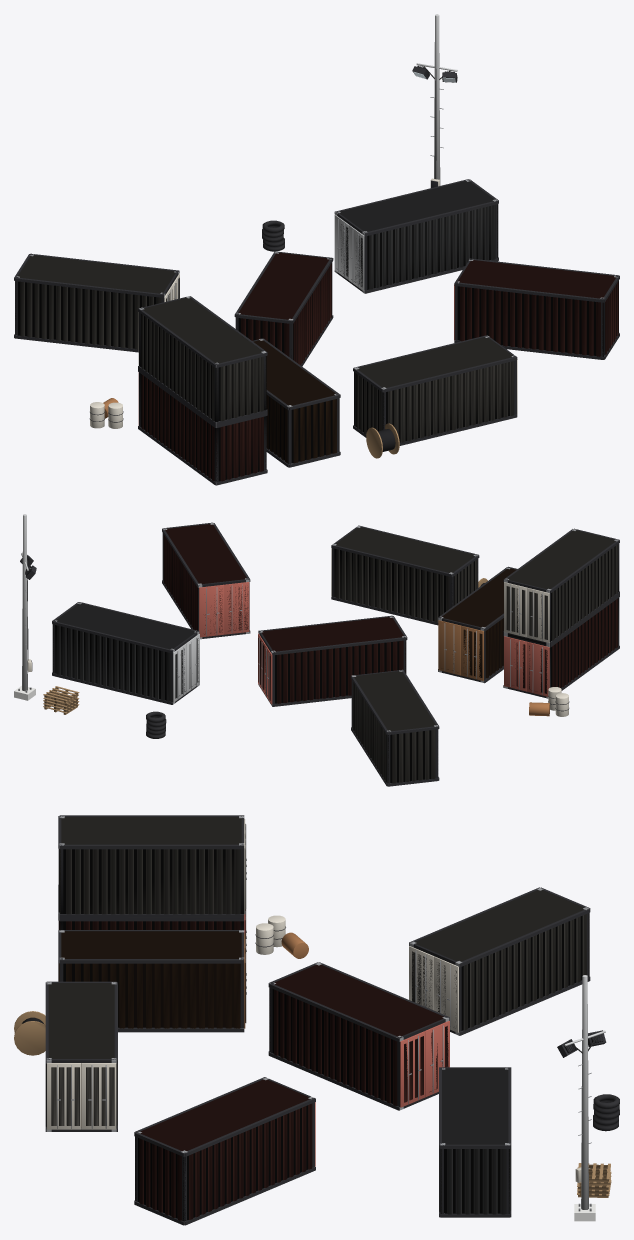
Rendered from containeryard.glb.
3 renders of one model, top to bottom at view 1: azimuth 30°, elevation 25°; view 2: azimuth 150°, elevation 25°; view 3: azimuth 270°, elevation 25°, orthographic. The views are drawn at different scales.
Visible parts, largest first — view 1: PART, DOOR_c6l, DOOR_c6r; view 2: PART, DOOR_c5l, DOOR_c5r, DOOR_c2l, DOOR_c1l, DOOR_c1r, DOOR_c2r, DOOR_c3r, DOOR_c3l, DOOR_c6r, DOOR_c6l, DOOR_c8l; view 3: PART, DOOR_c4l, DOOR_c4r, DOOR_c8r, DOOR_c7l, DOOR_c8l, DOOR_c7r.
Boxes of the visible parts, x1,y1,x2,y2 form: PART: (14, 14, 619, 485); DOOR_c6l: (349, 225, 364, 290); DOOR_c6r: (334, 214, 349, 280); PART: (14, 514, 619, 786); DOOR_c5l: (224, 582, 249, 634); DOOR_c5r: (199, 584, 224, 637); DOOR_c2l: (526, 587, 549, 642); DOOR_c1l: (526, 641, 549, 696); DOOR_c1r: (504, 636, 526, 691); DOOR_c2r: (504, 582, 526, 637); DOOR_c3r: (438, 620, 460, 675); DOOR_c3l: (461, 625, 483, 680); DOOR_c6r: (173, 643, 186, 702); DOOR_c6l: (186, 634, 199, 692); DOOR_c8l: (264, 644, 272, 704); PART: (14, 815, 619, 1225); DOOR_c4l: (82, 1063, 116, 1129); DOOR_c4r: (47, 1063, 81, 1129); DOOR_c8r: (400, 1031, 425, 1107); DOOR_c7l: (433, 956, 458, 1032); DOOR_c8l: (425, 1021, 449, 1097); DOOR_c7r: (409, 946, 433, 1010).
Bounding box in the file's own units: 22.18 × 8.71 × 19.86.
